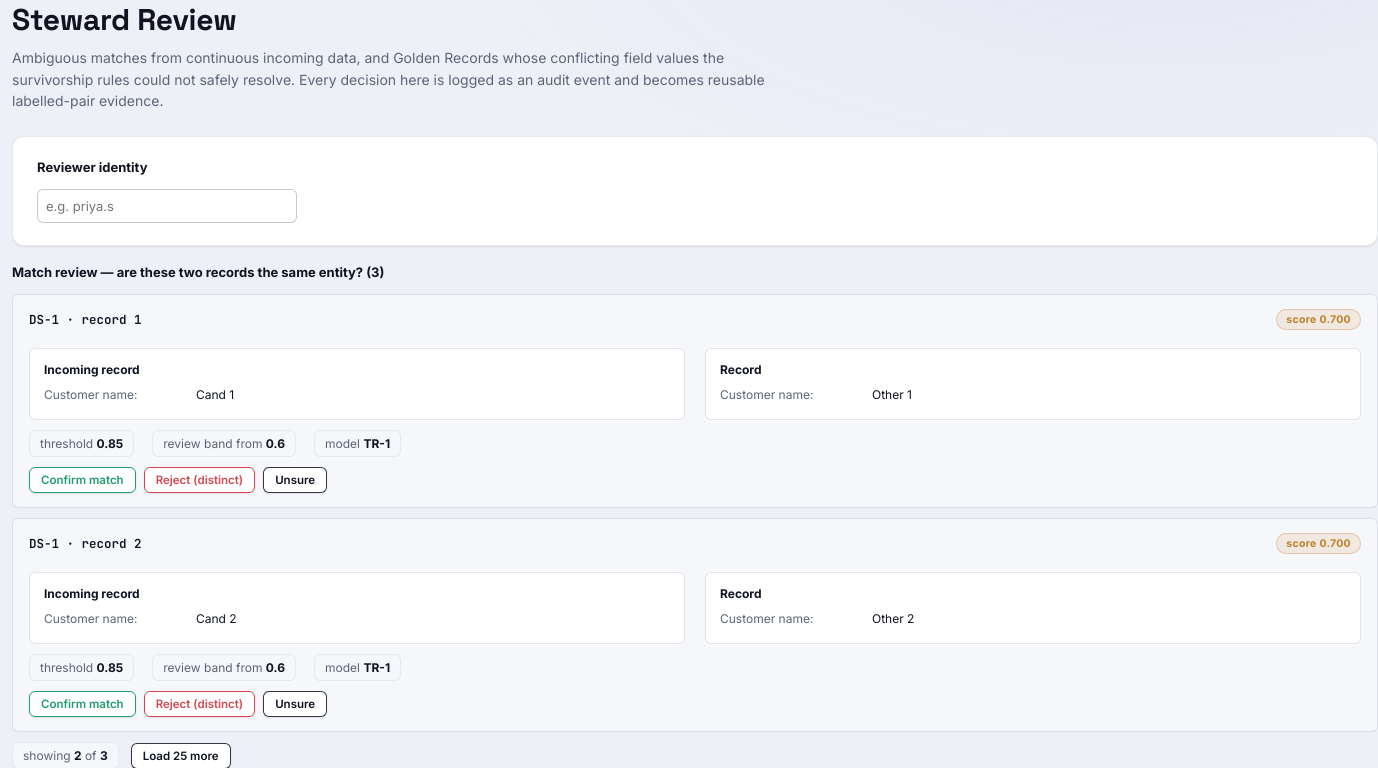
Test: Journey P-S: navigation, master data, steward review, incoming form › R: Steward Review shows the first page quickly and loads more on demand
This screenshot has width=1378, height=768.
Expected: the text "DS-1 · record 1" is shown, [29,311,142,328]
Expected: the text "DS-1 · record 3" is not shown
Click the button "Load 25 more" at point(181, 756), box [131,743,231,767]
(page scrolled)
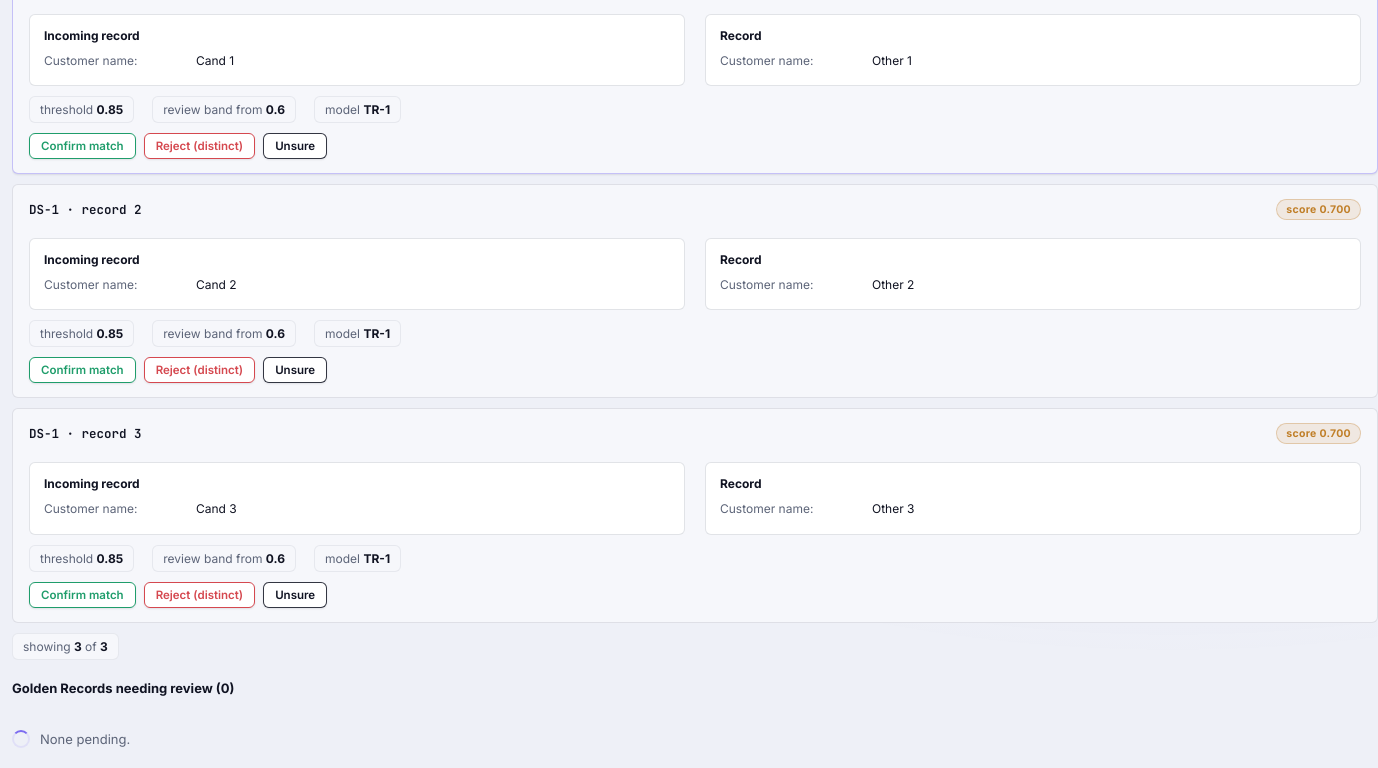
Expected: the text "DS-1 · record 3" is shown, [29,425,142,442]
